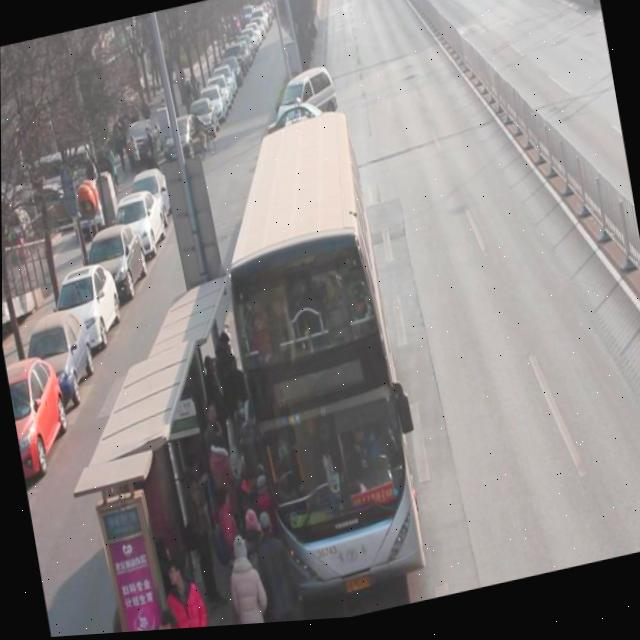car: (263, 98, 349, 160)
truck: (271, 70, 341, 143)
van: (205, 106, 425, 603)
